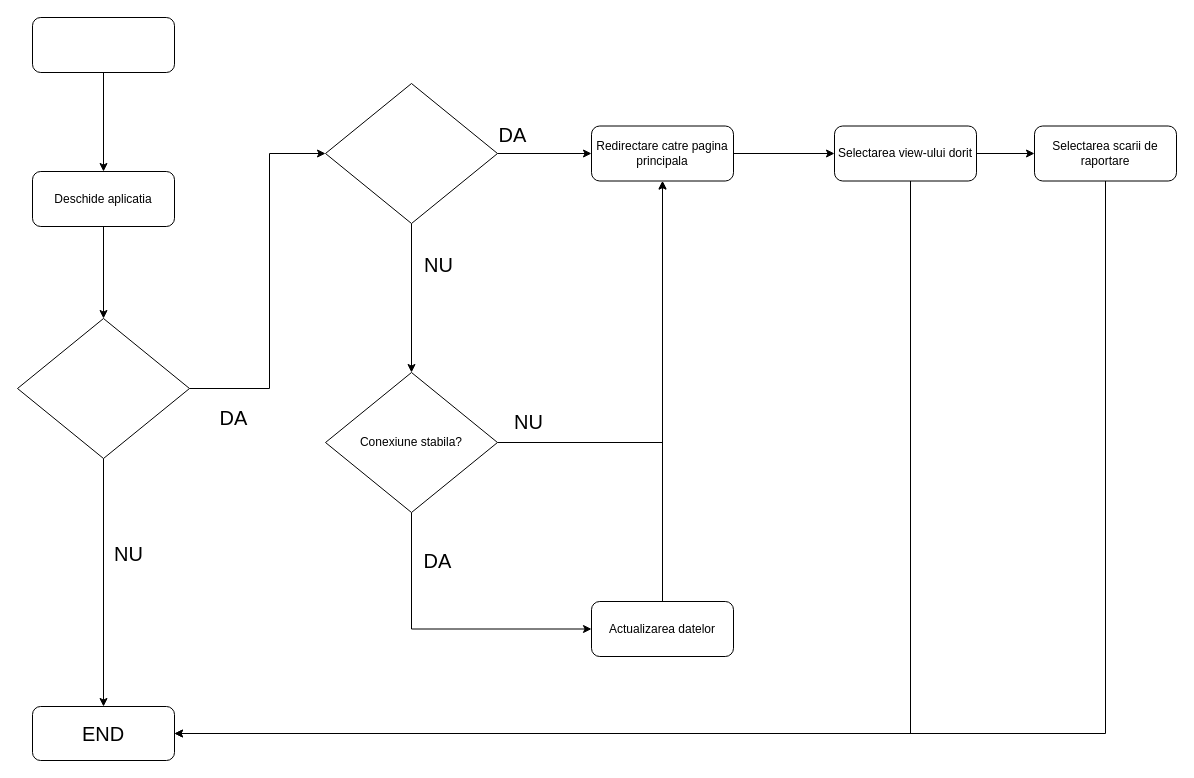
Image size: 1194x778. Some labels were removed from this diagram. Each missing label, with the centre of its shape:
Aplicatia este deschisa corect?: [103,388]
Datele sunt actuale?: [411,153]
START: [103,44]
